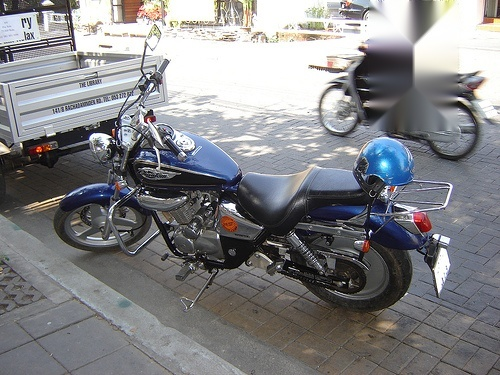motorbike: (54, 25, 454, 315), (318, 37, 489, 161)
